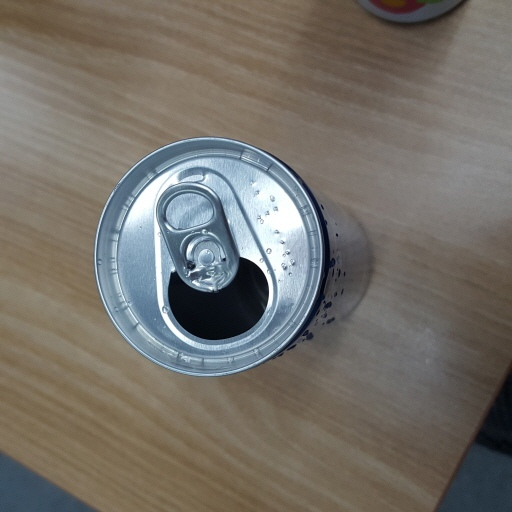Metal_0: (92, 137, 373, 386)
